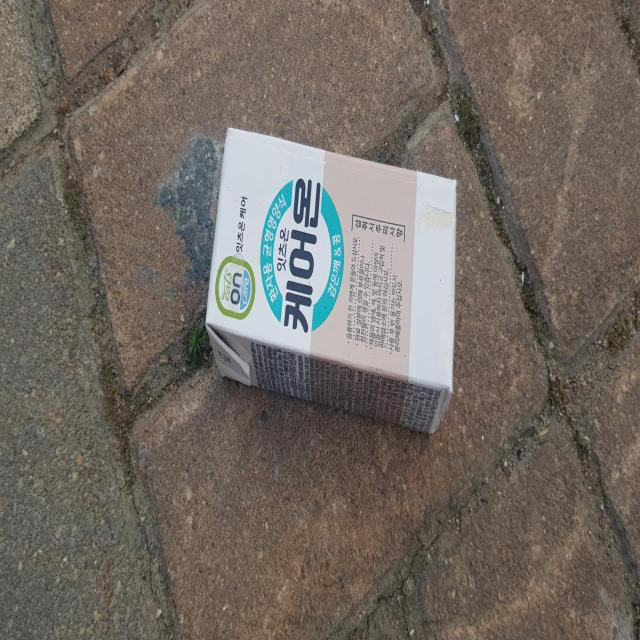paperpack: (205, 127, 457, 432)
